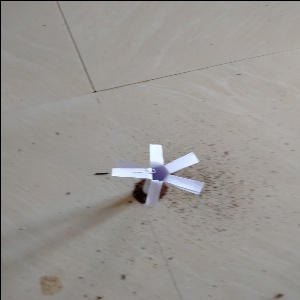weed: (111, 140, 206, 207)
